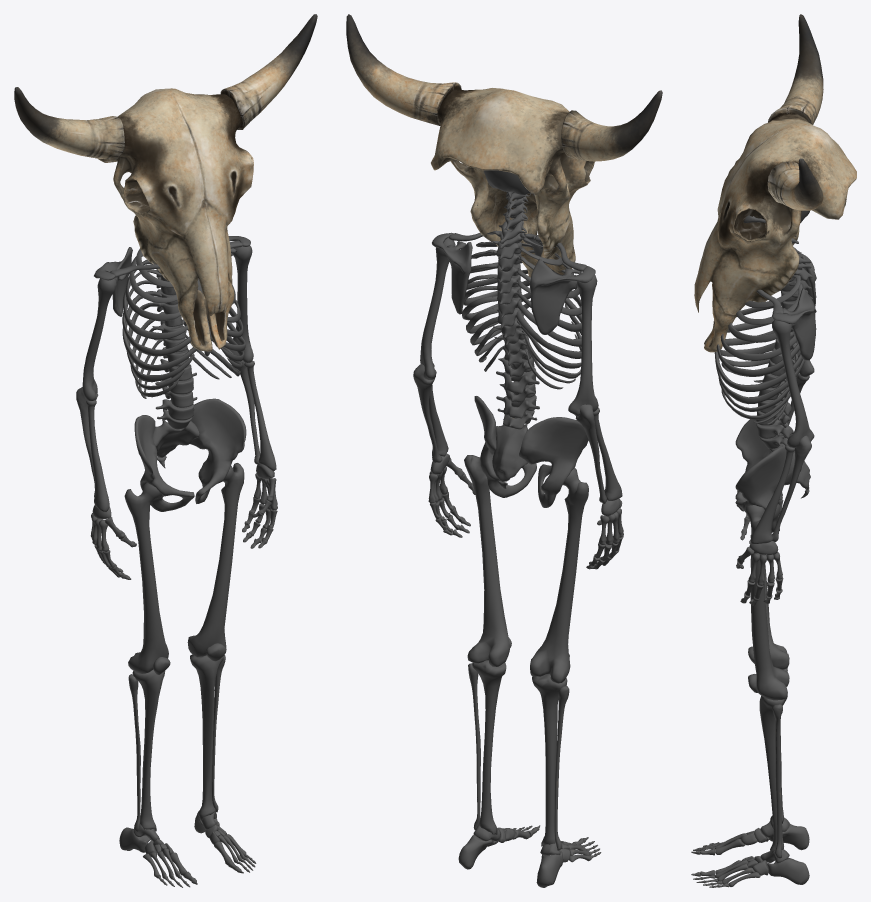
Rendered from minotaurus.glb.
3 renders of one model, left to right at view 1: azimuth 30°, elevation 25°; view 2: azimuth 150°, elevation 25°; view 3: azimuth 270°, elevation 25°, orthographic. The views are drawn at different scales.
Parts seen in each view (by area): view 1: node_id116, node_id104; view 2: node_id116, node_id104; view 3: node_id116, node_id104.
Boxes of the visible parts, x1=… form: node_id116: x1=76, y1=236, x2=277, y2=887; node_id104: x1=14, y1=14, x2=317, y2=351; node_id116: x1=413, y1=170, x2=623, y2=887; node_id104: x1=346, y1=14, x2=662, y2=282; node_id116: x1=691, y1=210, x2=816, y2=887; node_id104: x1=694, y1=14, x2=856, y2=352.
Bounding box in the file's own units: 0.1151 × 0.288 × 0.0554.
2 materials, 2 textured.
